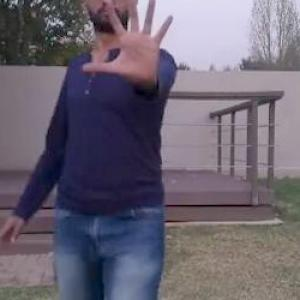follow_hand: (77, 0, 179, 88)
